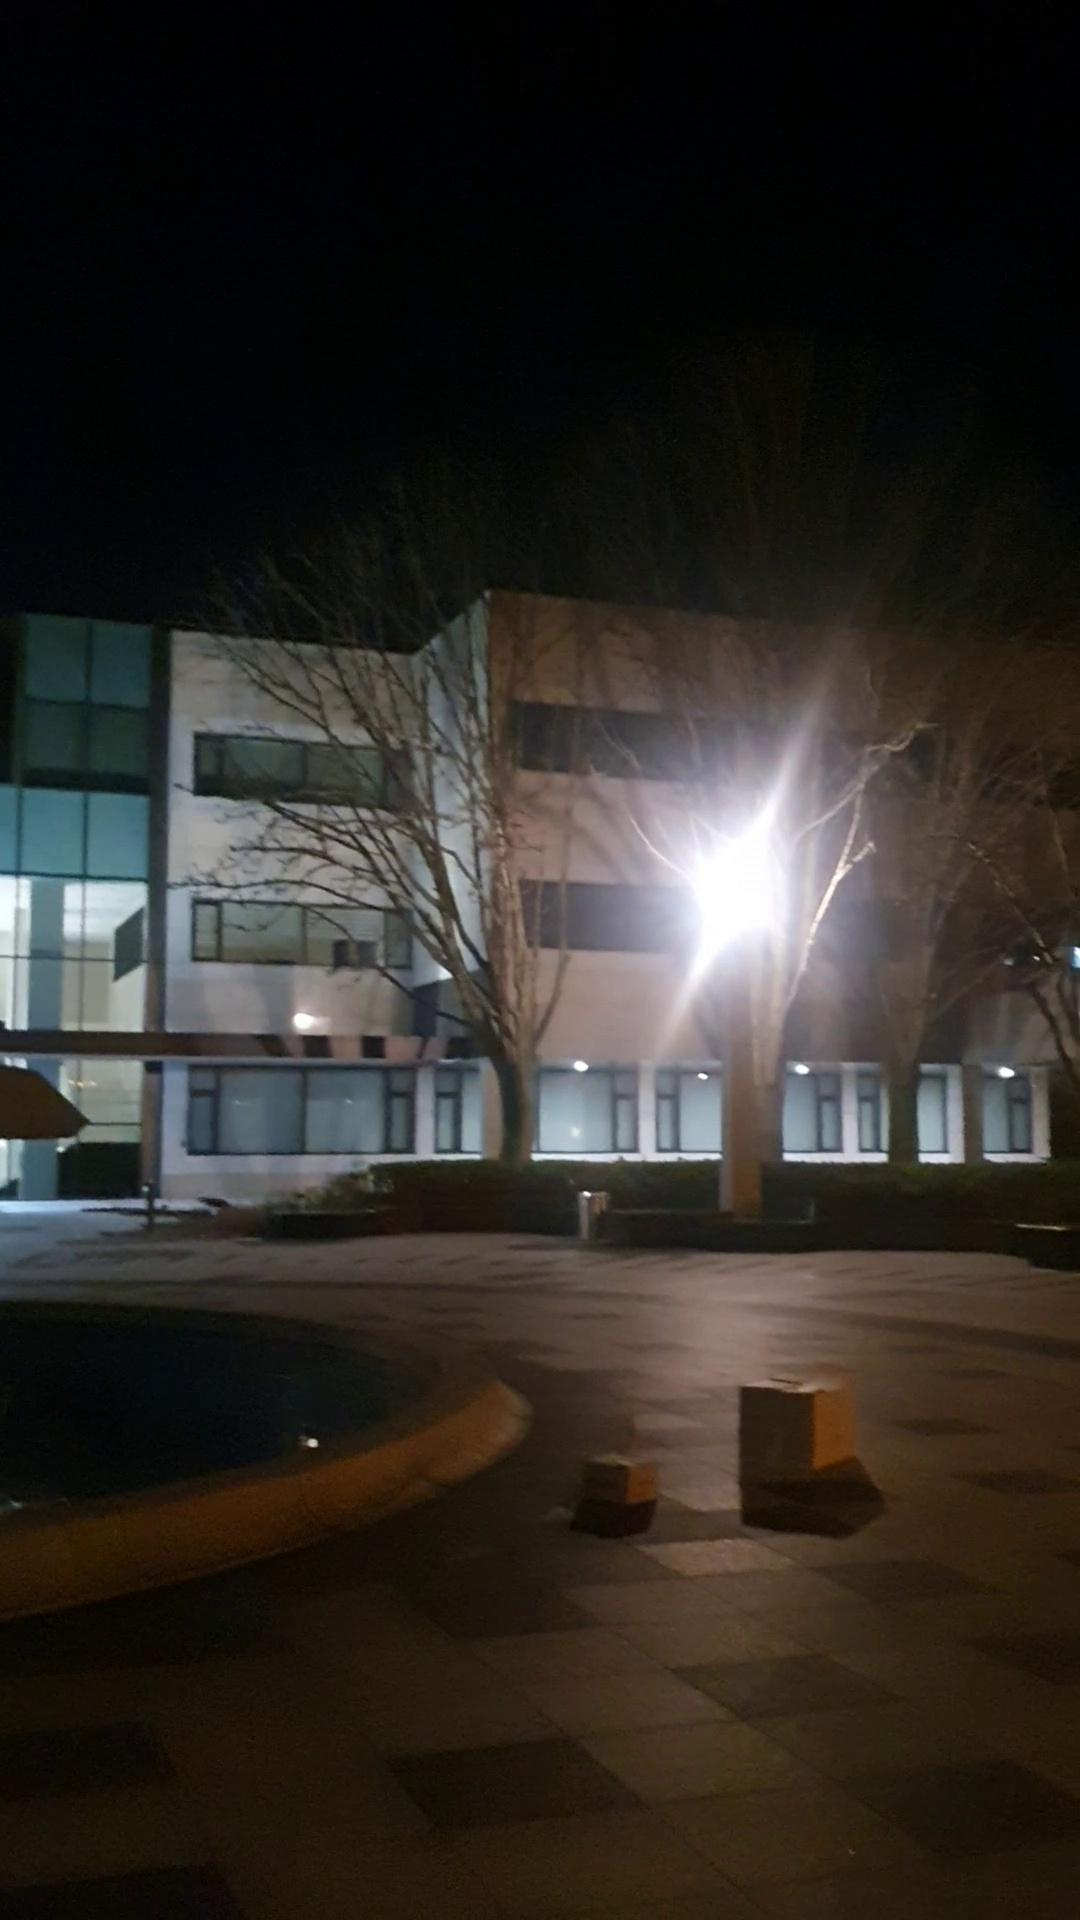Box: (733, 1360, 864, 1495), (588, 1435, 676, 1522)
